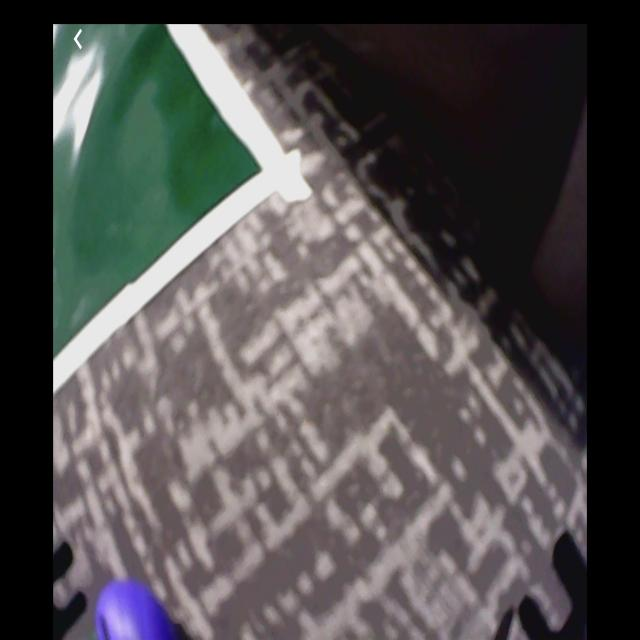ball: (99, 580, 179, 640)
